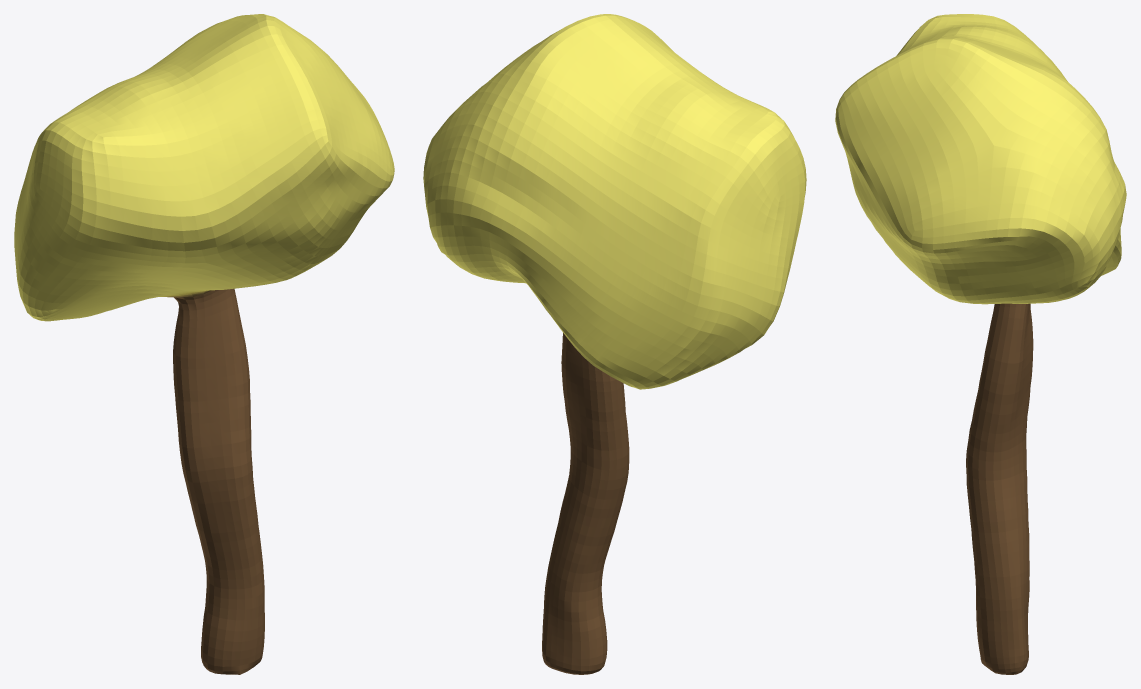
Rendered from Yellow_Treepainted.fbx.
3 views of the same model, side by side, from view 1: azimuth 30°, elevation 25°; view 2: azimuth 150°, elevation 25°; view 3: azimuth 270°, elevation 25° (orthographic). The views are drawn at different scales.
Parts seen in each view (by area): view 1: Yellow_Tree; view 2: Yellow_Tree; view 3: Yellow_Tree.
Part boxes in pixels (bbox=[...]): Yellow_Tree: bbox=[14, 14, 394, 674]; Yellow_Tree: bbox=[423, 14, 806, 674]; Yellow_Tree: bbox=[835, 14, 1126, 674].
Size of the model in its own units: 1.65 by 2.94 by 1.23.
1 material, 1 textured.
